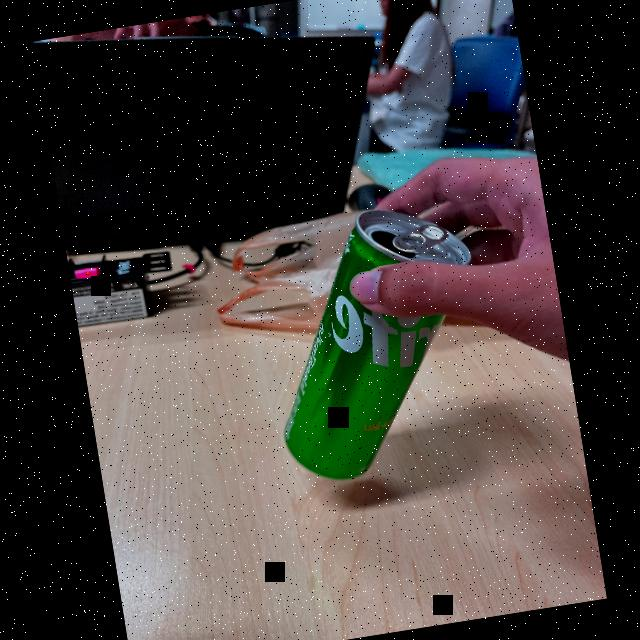can: (228, 192, 528, 500)
